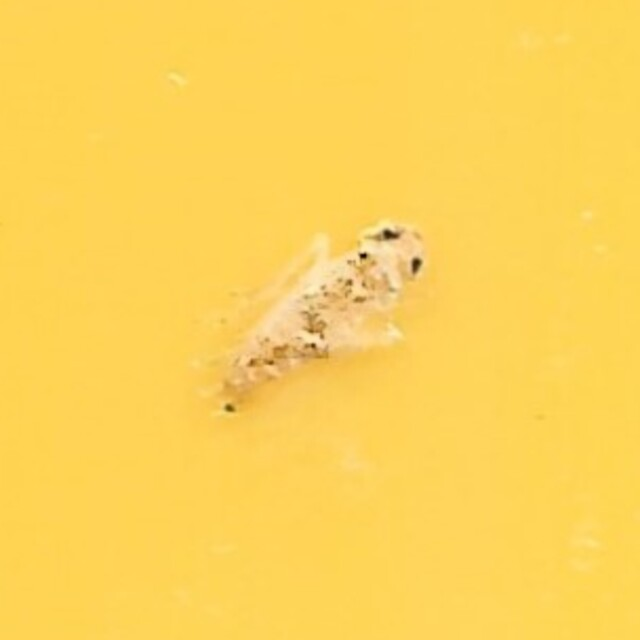Hemiptera: (211, 213, 429, 427)
